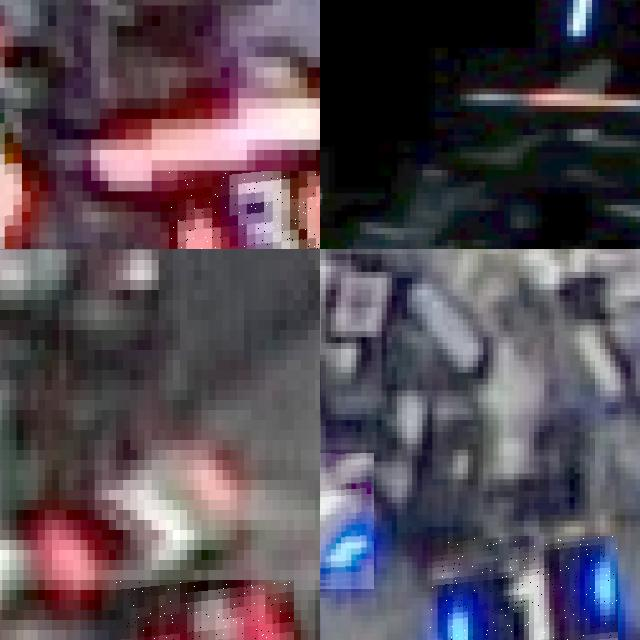B1: (430, 535, 618, 640), (320, 452, 374, 589)
R3: (169, 170, 320, 249), (116, 580, 294, 640)
